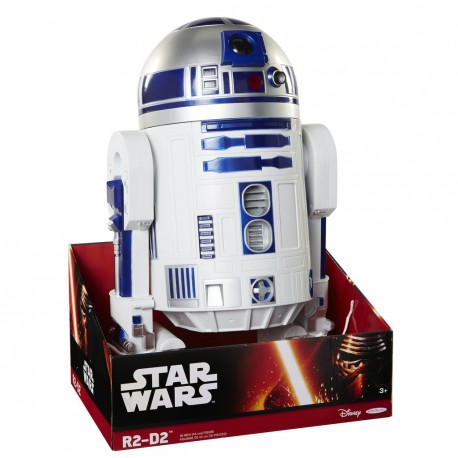r2d2: (106, 18, 335, 330)
